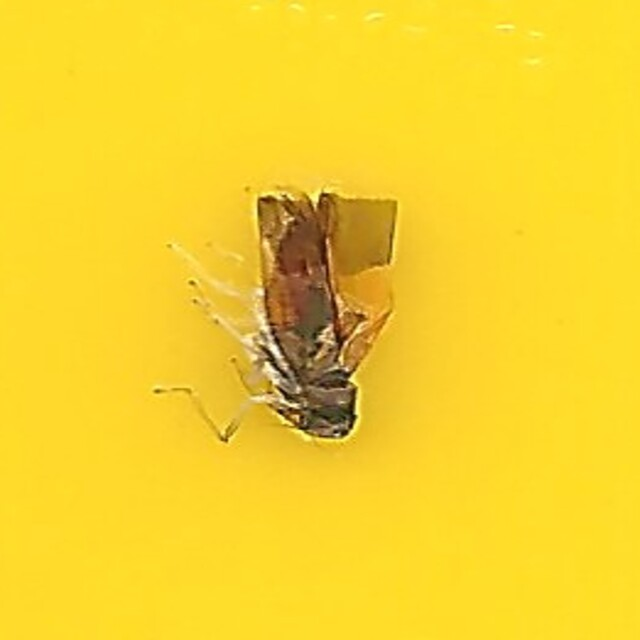Hemiptera: (245, 189, 395, 451)
